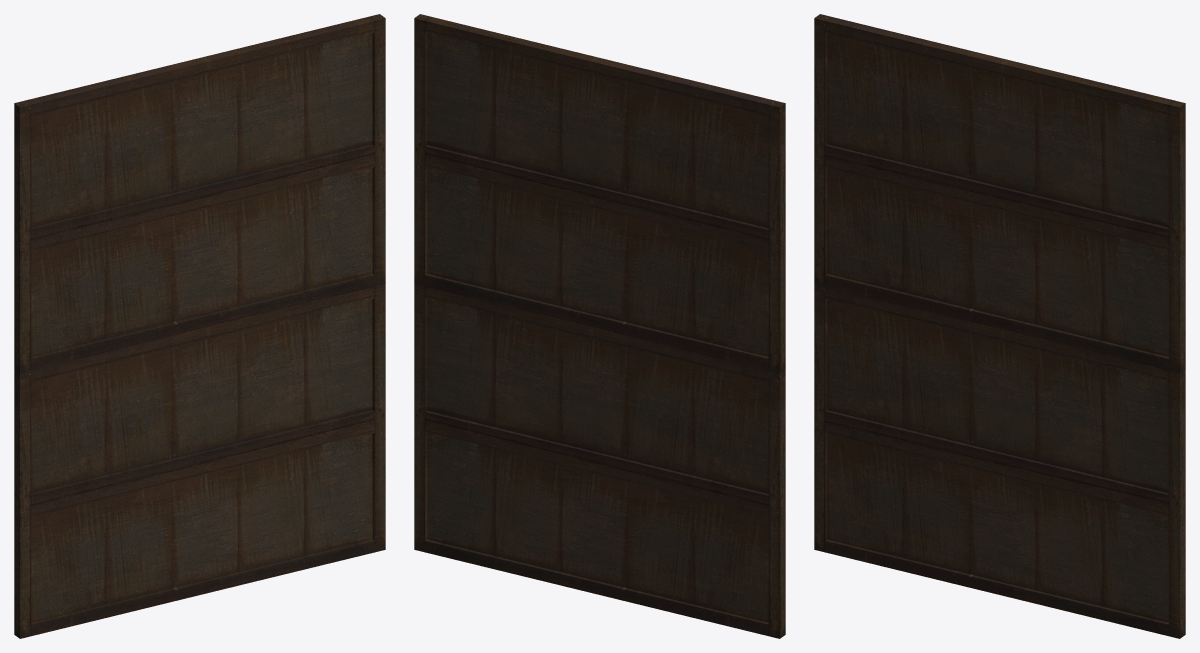
The model's file is metal_fence_hr_1_tall.obj.
3 renders of one model, left to right at view 1: azimuth 30°, elevation 25°; view 2: azimuth 150°, elevation 25°; view 3: azimuth 330°, elevation 25°, orthographic.
Visible parts, largest first — view 1: metal_fence_hr_1_tall; view 2: metal_fence_hr_1_tall; view 3: metal_fence_hr_1_tall.
Part boxes in pixels (left/top/right/bottom): metal_fence_hr_1_tall: left=14, top=14, right=385, bottom=638; metal_fence_hr_1_tall: left=414, top=14, right=785, bottom=638; metal_fence_hr_1_tall: left=814, top=14, right=1185, bottom=638.
Size of the model in its own units: 3.6 by 5 by 0.1.
